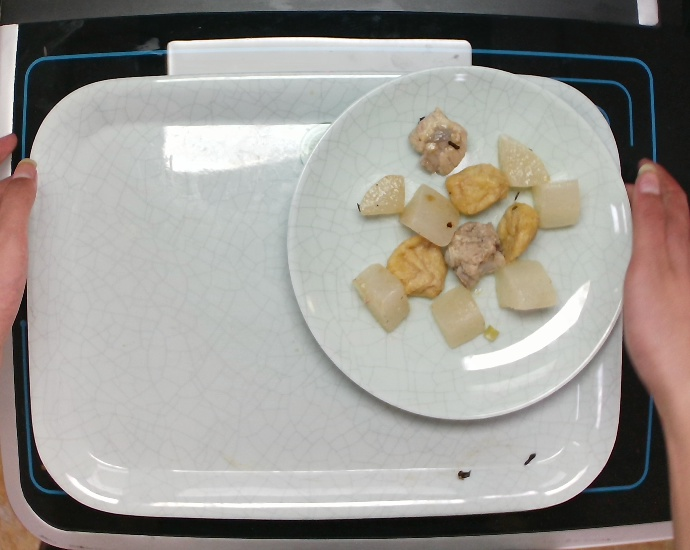JYsf-Da_Yuan_Pan: (273, 63, 631, 429)
